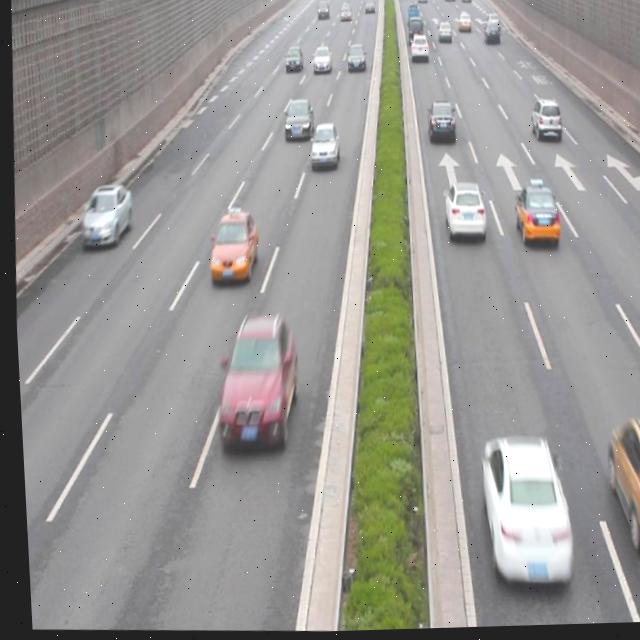car: (470, 438, 572, 596), (207, 317, 296, 454), (599, 417, 640, 565), (202, 206, 258, 289), (74, 181, 131, 249), (507, 182, 558, 252), (438, 181, 484, 246), (305, 121, 340, 172), (279, 99, 312, 145), (526, 101, 559, 145), (425, 102, 454, 147)
